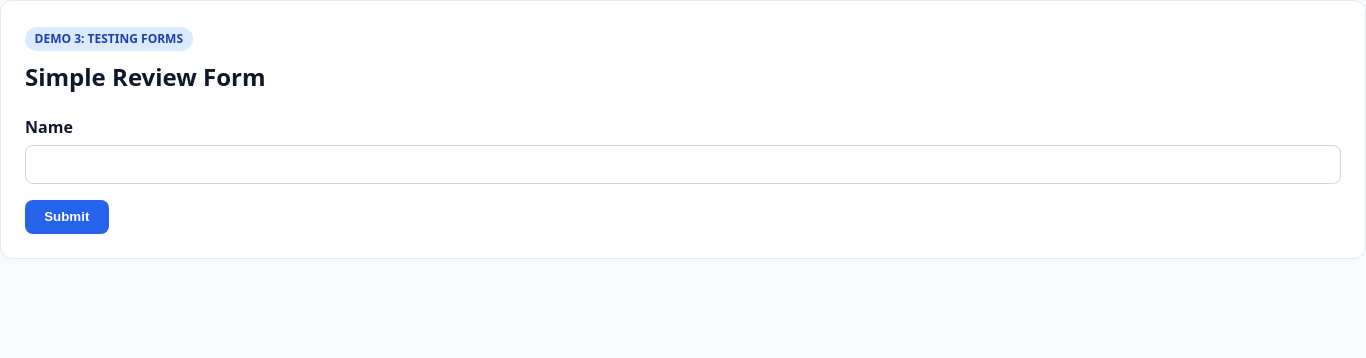
Test case: SimpleReviewForm › shows an error if submitted empty
Click the button "Submit". click: [67, 217]
box: [25,200,108,234]
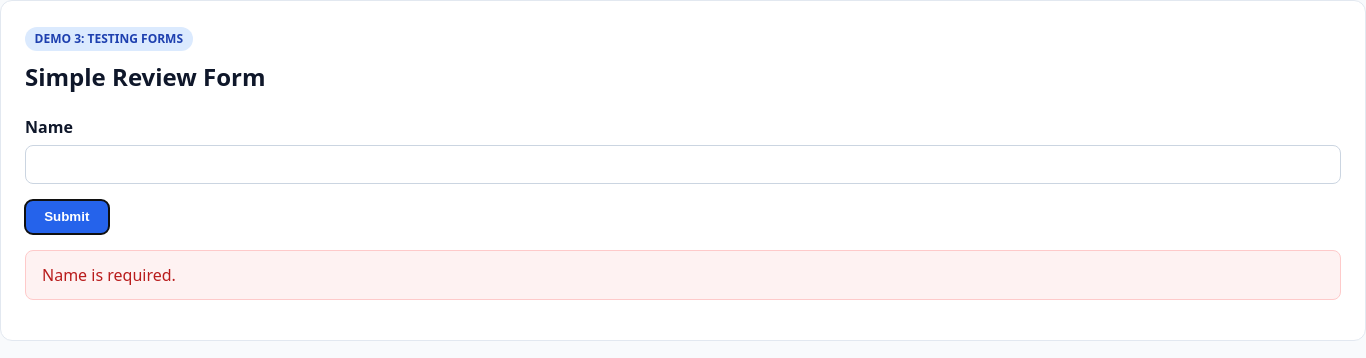
Now the text "Name is required." is shown, box [25,250,1341,300]
